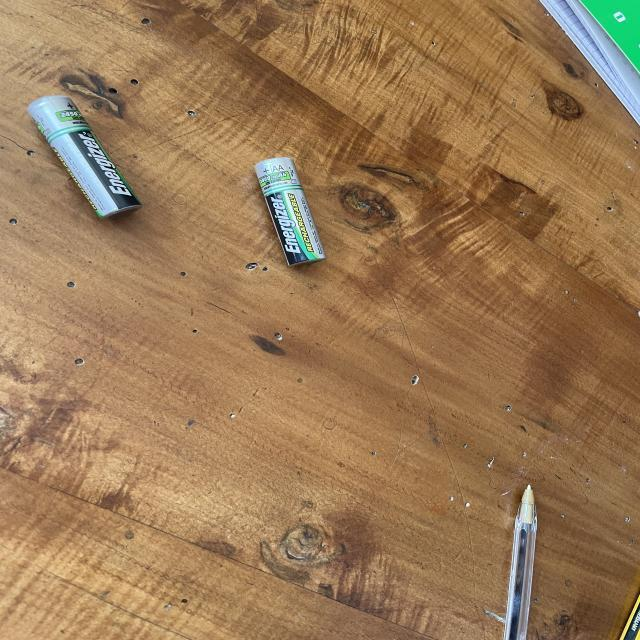Hazard: (34, 92, 144, 219), (248, 151, 334, 273)
